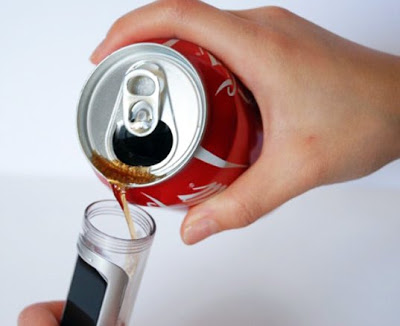Can: (59, 37, 277, 219)
